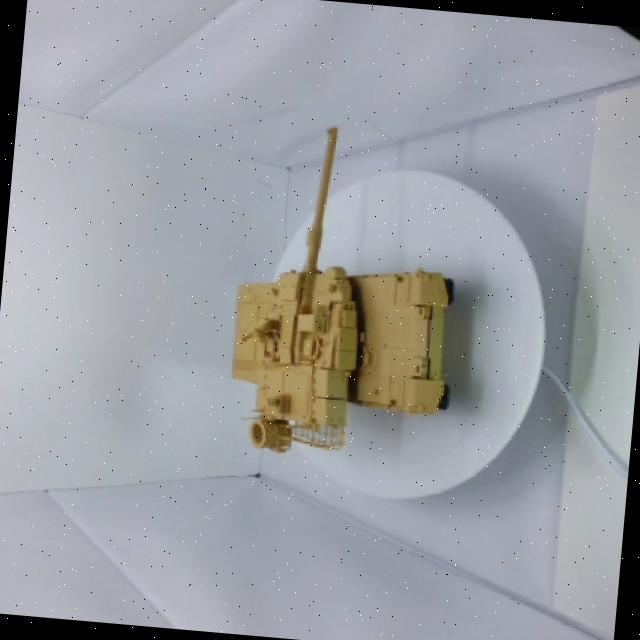korea tank: (178, 101, 506, 503)
